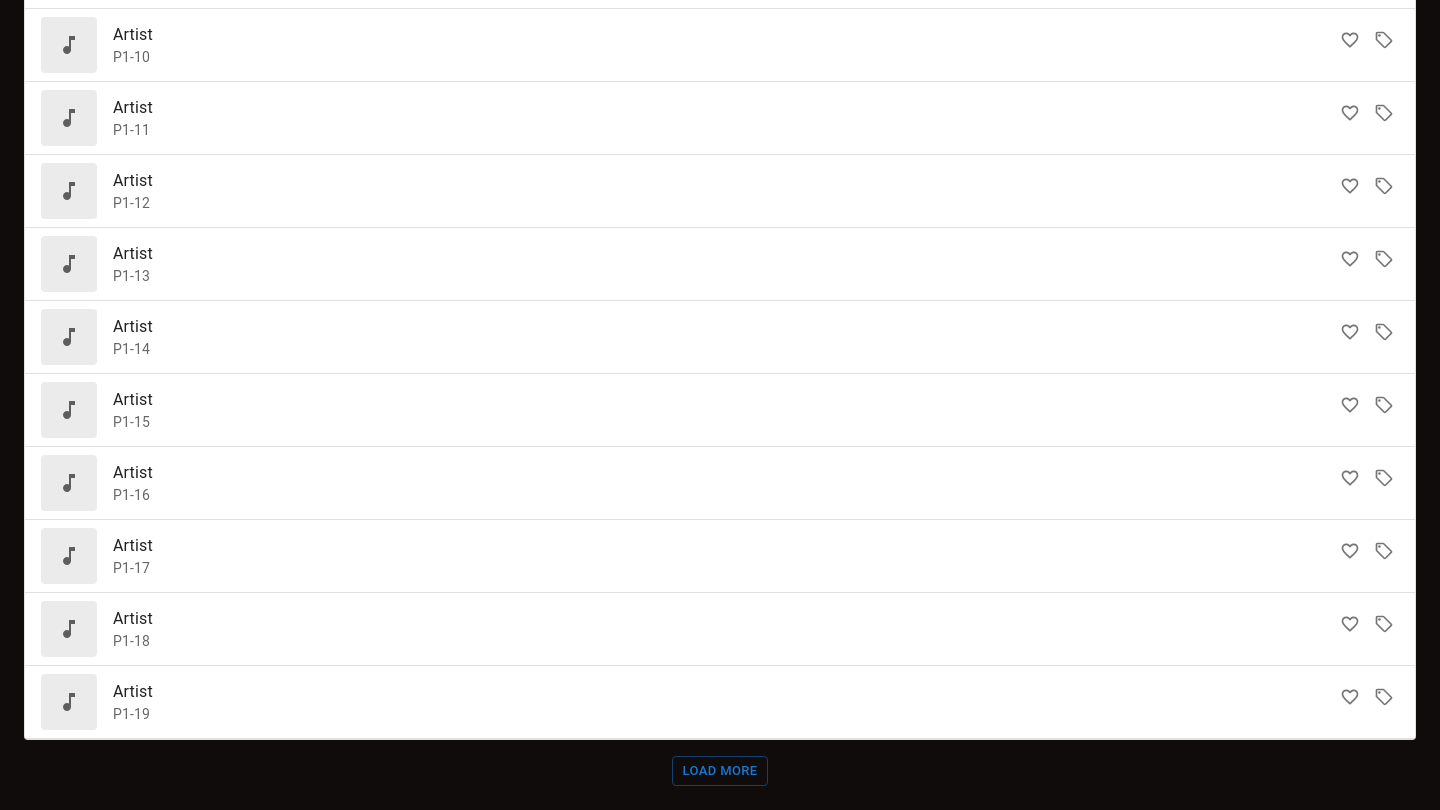
Scenario: ScrobblesPage › pagination › shows 'Load more', fetches and appends page 2, then hides the button once page 2 is short
(page scrolled)
Click the button "Load more" at [720, 771], box [672, 756, 768, 786]
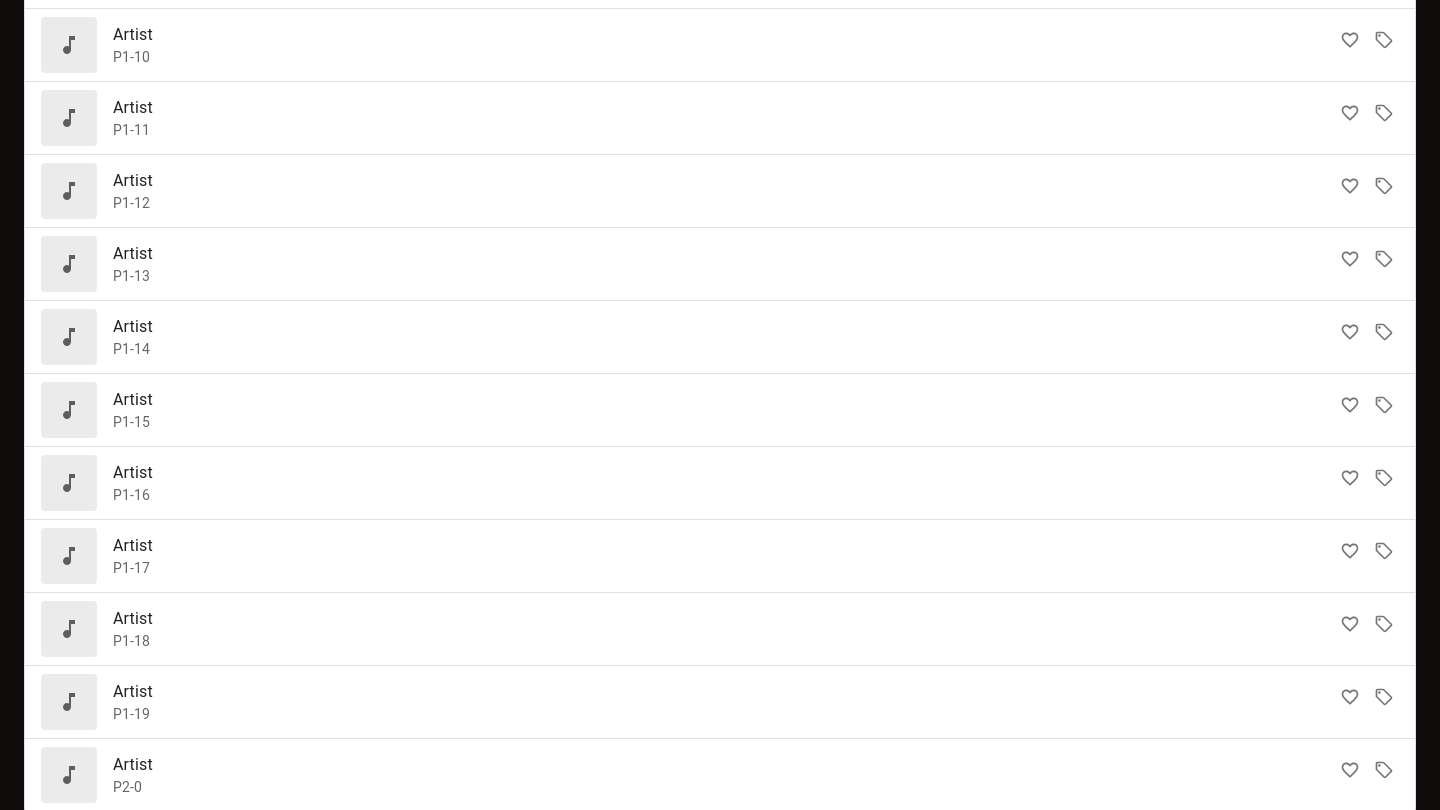
Expected: the text "P2-0" is shown, [113, 779, 142, 795]
Expected: the button "Load more" is gone
